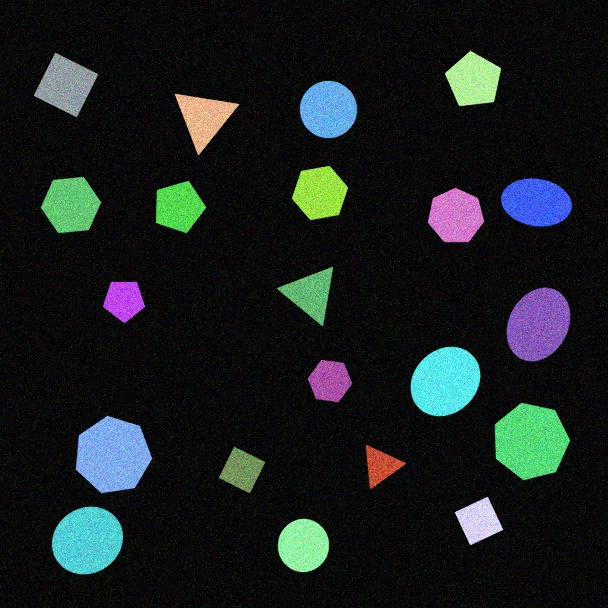Circulo: (51, 506, 124, 575), (299, 80, 358, 139), (277, 518, 330, 573)
Elipse: (410, 346, 481, 417), (506, 287, 571, 362), (500, 178, 573, 227)
Heptagono: (75, 415, 153, 494), (494, 402, 571, 481), (427, 187, 485, 243)
Hexagono: (40, 176, 102, 234), (291, 165, 349, 221), (307, 359, 353, 403)
Pentagono: (444, 50, 502, 107), (155, 180, 207, 234), (102, 281, 146, 324)
Quadrado: (33, 52, 99, 118), (454, 496, 504, 546), (218, 446, 266, 494)
Triangulo: (174, 93, 240, 156), (277, 266, 334, 327), (365, 444, 407, 490)
